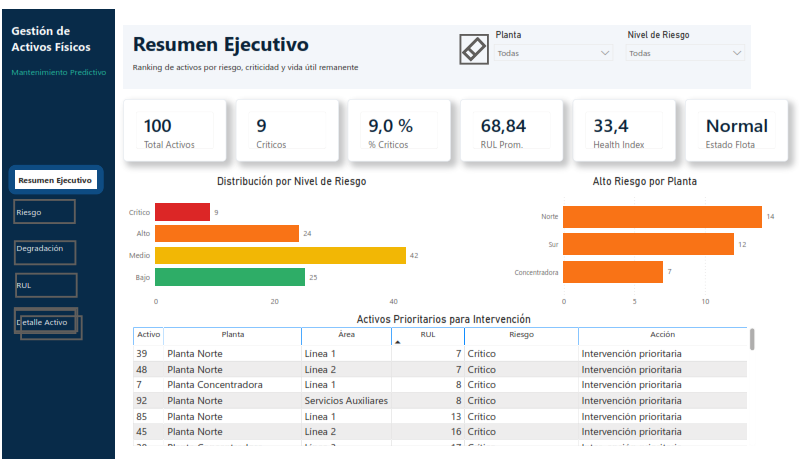

The page's visual inventory and layout, read from the dashboard file:
{"tool":"powerbi","page":{"name":"Resumen Ejecutivo","canvas":[1280,720],"ordinal":0},"visuals":[{"type":"shape","box":[0,0,180.3,719.7],"z":0},{"type":"shape","box":[9.8,249,152.9,47.7],"z":0,"group":"g1"},{"type":"textbox","box":[18.3,309.9,129.6,29.3],"z":0,"group":"g2"},{"type":"textbox","box":[18.3,368.8,129.6,29.3],"z":0,"group":"g3"},{"type":"textbox","box":[17.6,427.7,129.6,29.3],"z":0,"group":"g4"},{"type":"textbox","box":[18.3,486.7,132.1,29.3],"z":0,"group":"g5"},{"type":"textbox","box":[9.8,17.1,170,61.1],"z":1000},{"type":"textbox","box":[21.1,258.5,129.6,29.3],"z":1000,"group":"g1"},{"type":"textbox","box":[9.8,86.8,170,40.4],"z":2000},{"type":"group","id":"g1","title":"Grupo 1","box":[9.8,249,152.9,47.7],"z":3000},{"type":"group","id":"g2","title":"Grupo 1","box":[18.3,309.9,129.6,29.3],"z":4000},{"type":"group","id":"g3","title":"Grupo 1","box":[18.3,368.8,129.6,29.3],"z":5000},{"type":"group","id":"g4","title":"Grupo 1","box":[17.6,427.7,129.6,29.3],"z":6000},{"type":"group","id":"g5","title":"Grupo 1","box":[18.3,486.7,132.1,29.3],"z":7000},{"type":"shape","box":[194.4,26.9,1003.9,100.3],"z":8000},{"type":"textbox","box":[204.2,28.1,299.6,59.9],"z":9000},{"type":"textbox","box":[204.2,78.3,492.8,40.4],"z":10000},{"type":"slicer","fields":{"Values":["dim_engine.site"]},"box":[777.1,27.9,211.1,60.1],"z":11000},{"type":"slicer","fields":{"Values":["dim_engine.current_risk_level"]},"box":[988.2,27.9,211.1,60.1],"z":12000},{"type":"cardVisual","fields":{"Data":["Medidas.Total Activos"]},"box":[193.8,144.3,165,100],"z":13000},{"type":"cardVisual","fields":{"Data":["Medidas.Activos Críticos"]},"box":[373.6,144.3,165,100],"z":14000},{"type":"cardVisual","fields":{"Data":["Medidas.% Activos Críticos"]},"box":[553.3,144.3,165,100],"z":15000},{"type":"cardVisual","fields":{"Data":["Medidas.Health Index Promedio"]},"box":[912.9,144.3,165,100],"z":16000},{"type":"cardVisual","fields":{"Data":["Medidas.Estado General Flota"]},"box":[1092.6,144.3,165,100],"z":17000},{"type":"cardVisual","fields":{"Data":["Medidas.RUL Promedio"]},"box":[733.1,144.3,165,100],"z":18000},{"type":"clusteredBarChart","title":"Distribución por Nivel de Riesgo","fields":{"Category":["dim_engine.current_risk_level"],"Y":["Count(dim_engine.engine_id)"]},"box":[193.8,266.2,538.8,220],"z":19000},{"type":"clusteredBarChart","title":"Alto Riesgo por Planta","fields":{"Y":["Medidas.Activos Alto Riesgo"],"Category":["dim_engine.Planta Visual"]},"box":[808.8,266.2,438.8,220],"z":20000},{"type":"tableEx","title":"Activos Prioritarios para Intervención","fields":{"Values":["dim_engine.engine_id","dim_engine.site","dim_engine.area","dim_engine.current_rul","dim_engine.current_risk_level","dim_engine.current_recommended_action"]},"box":[203.8,486.2,1006.2,217.5],"z":21000},{"type":"actionButton","box":[17.9,304,99.8,40.2],"z":22000},{"type":"actionButton","box":[19.4,369.5,99.8,40.2],"z":23000},{"type":"actionButton","box":[20.9,421.7,99.8,40.2],"z":24000},{"type":"actionButton","box":[19.4,476.8,102.8,40.2],"z":25000},{"type":"actionButton","box":[19.4,479.8,99.8,40.2],"z":26000},{"type":"actionButton","box":[29.4,489.8,99.8,40.2],"z":27000},{"type":"actionButton","box":[732.3,39.6,47.2,49.1],"z":28000}]}

Visuals, with their boxes on the page's 1280x720 design canvas (x1, y1, x2, y2). These are canvas units, not pixel positions in the 802x462 screenshot, which may show the page scaled, cropped or inside an application window:
shape: (left=0, top=0, right=180, bottom=720)
shape: (left=10, top=249, right=163, bottom=297)
textbox: (left=18, top=310, right=148, bottom=339)
textbox: (left=18, top=369, right=148, bottom=398)
textbox: (left=18, top=428, right=147, bottom=457)
textbox: (left=18, top=487, right=150, bottom=516)
textbox: (left=10, top=17, right=180, bottom=78)
textbox: (left=21, top=258, right=151, bottom=288)
textbox: (left=10, top=87, right=180, bottom=127)
"Grupo 1" group: (left=10, top=249, right=163, bottom=297)
"Grupo 1" group: (left=18, top=310, right=148, bottom=339)
"Grupo 1" group: (left=18, top=369, right=148, bottom=398)
"Grupo 1" group: (left=18, top=428, right=147, bottom=457)
"Grupo 1" group: (left=18, top=487, right=150, bottom=516)
shape: (left=194, top=27, right=1198, bottom=127)
textbox: (left=204, top=28, right=504, bottom=88)
textbox: (left=204, top=78, right=697, bottom=119)
slicer - dim_engine.site: (left=777, top=28, right=988, bottom=88)
slicer - dim_engine.current_risk_level: (left=988, top=28, right=1199, bottom=88)
cardVisual - Medidas.Total Activos: (left=194, top=144, right=359, bottom=244)
cardVisual - Medidas.Activos Críticos: (left=374, top=144, right=539, bottom=244)
cardVisual - Medidas.% Activos Críticos: (left=553, top=144, right=718, bottom=244)
cardVisual - Medidas.Health Index Promedio: (left=913, top=144, right=1078, bottom=244)
cardVisual - Medidas.Estado General Flota: (left=1093, top=144, right=1258, bottom=244)
cardVisual - Medidas.RUL Promedio: (left=733, top=144, right=898, bottom=244)
"Distribución por Nivel de Riesgo" clusteredBarChart: (left=194, top=266, right=733, bottom=486)
"Alto Riesgo por Planta" clusteredBarChart: (left=809, top=266, right=1248, bottom=486)
"Activos Prioritarios para Intervención" tableEx: (left=204, top=486, right=1210, bottom=704)
actionButton: (left=18, top=304, right=118, bottom=344)
actionButton: (left=19, top=370, right=119, bottom=410)
actionButton: (left=21, top=422, right=121, bottom=462)
actionButton: (left=19, top=477, right=122, bottom=517)
actionButton: (left=19, top=480, right=119, bottom=520)
actionButton: (left=29, top=490, right=129, bottom=530)
actionButton: (left=732, top=40, right=780, bottom=89)
